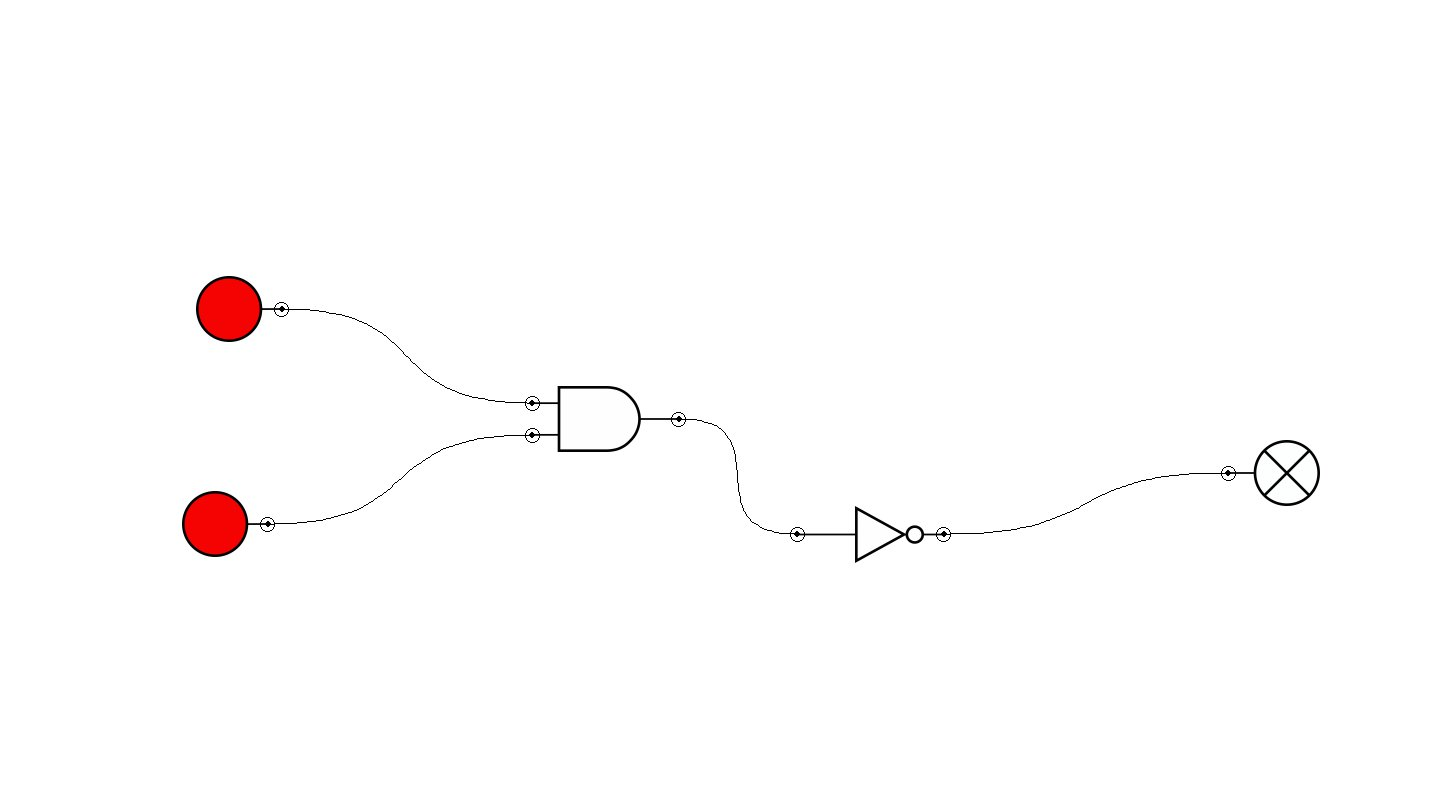and: (525, 386, 686, 452)
bulb: (1221, 440, 1320, 506)
not: (790, 506, 951, 563)
switch_False: (196, 276, 289, 342), (182, 491, 275, 557)
